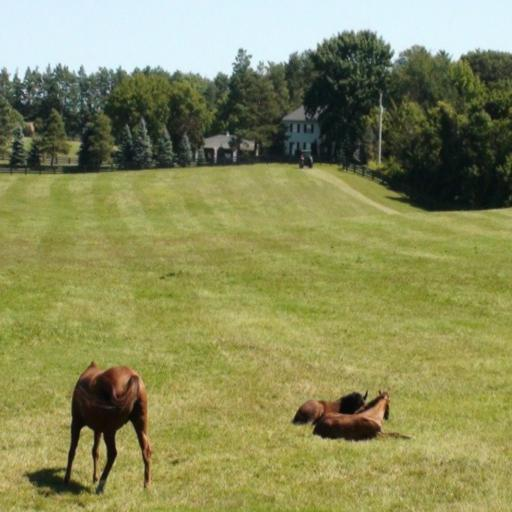horse: (59, 357, 155, 496), (312, 388, 415, 441), (294, 386, 370, 424)
